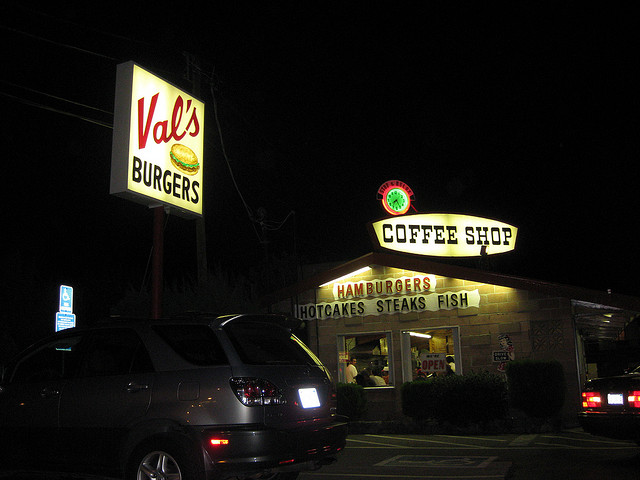car: (3, 306, 360, 476)
